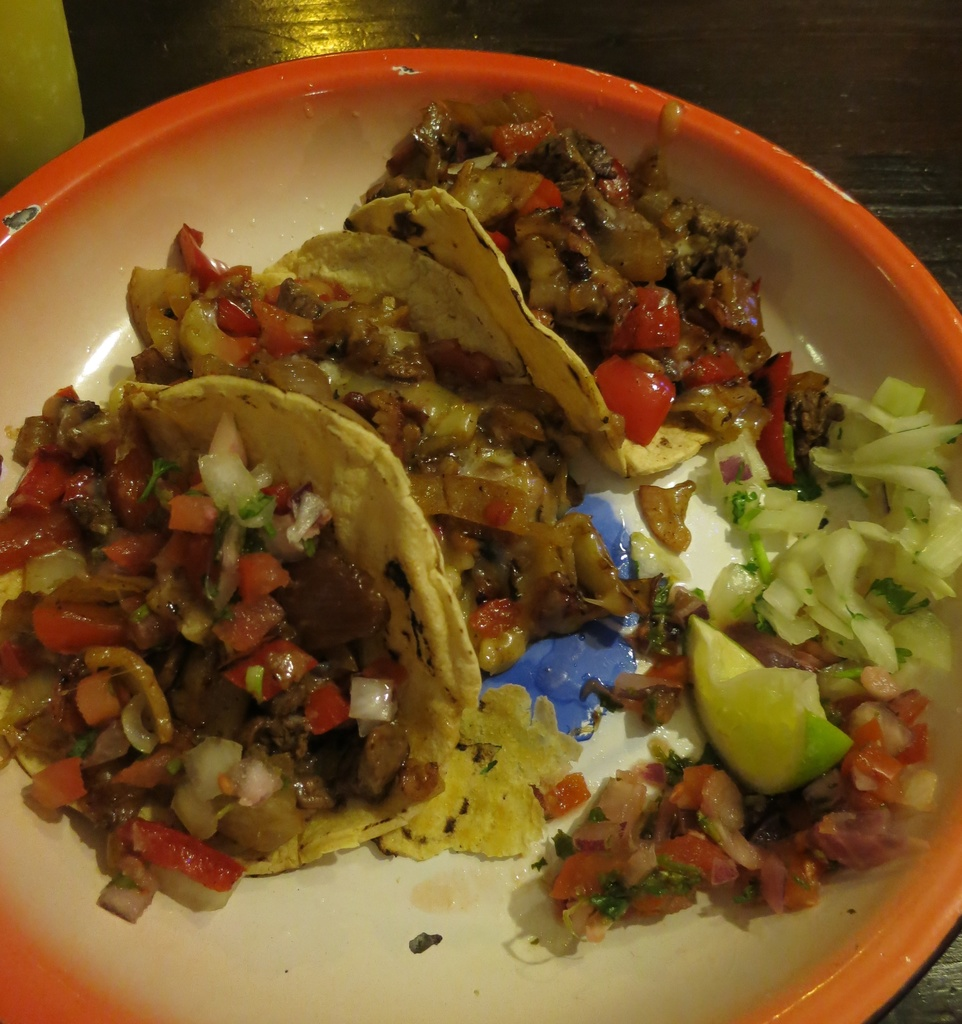taco: (0, 374, 479, 920), (142, 220, 611, 694), (382, 118, 795, 508)
